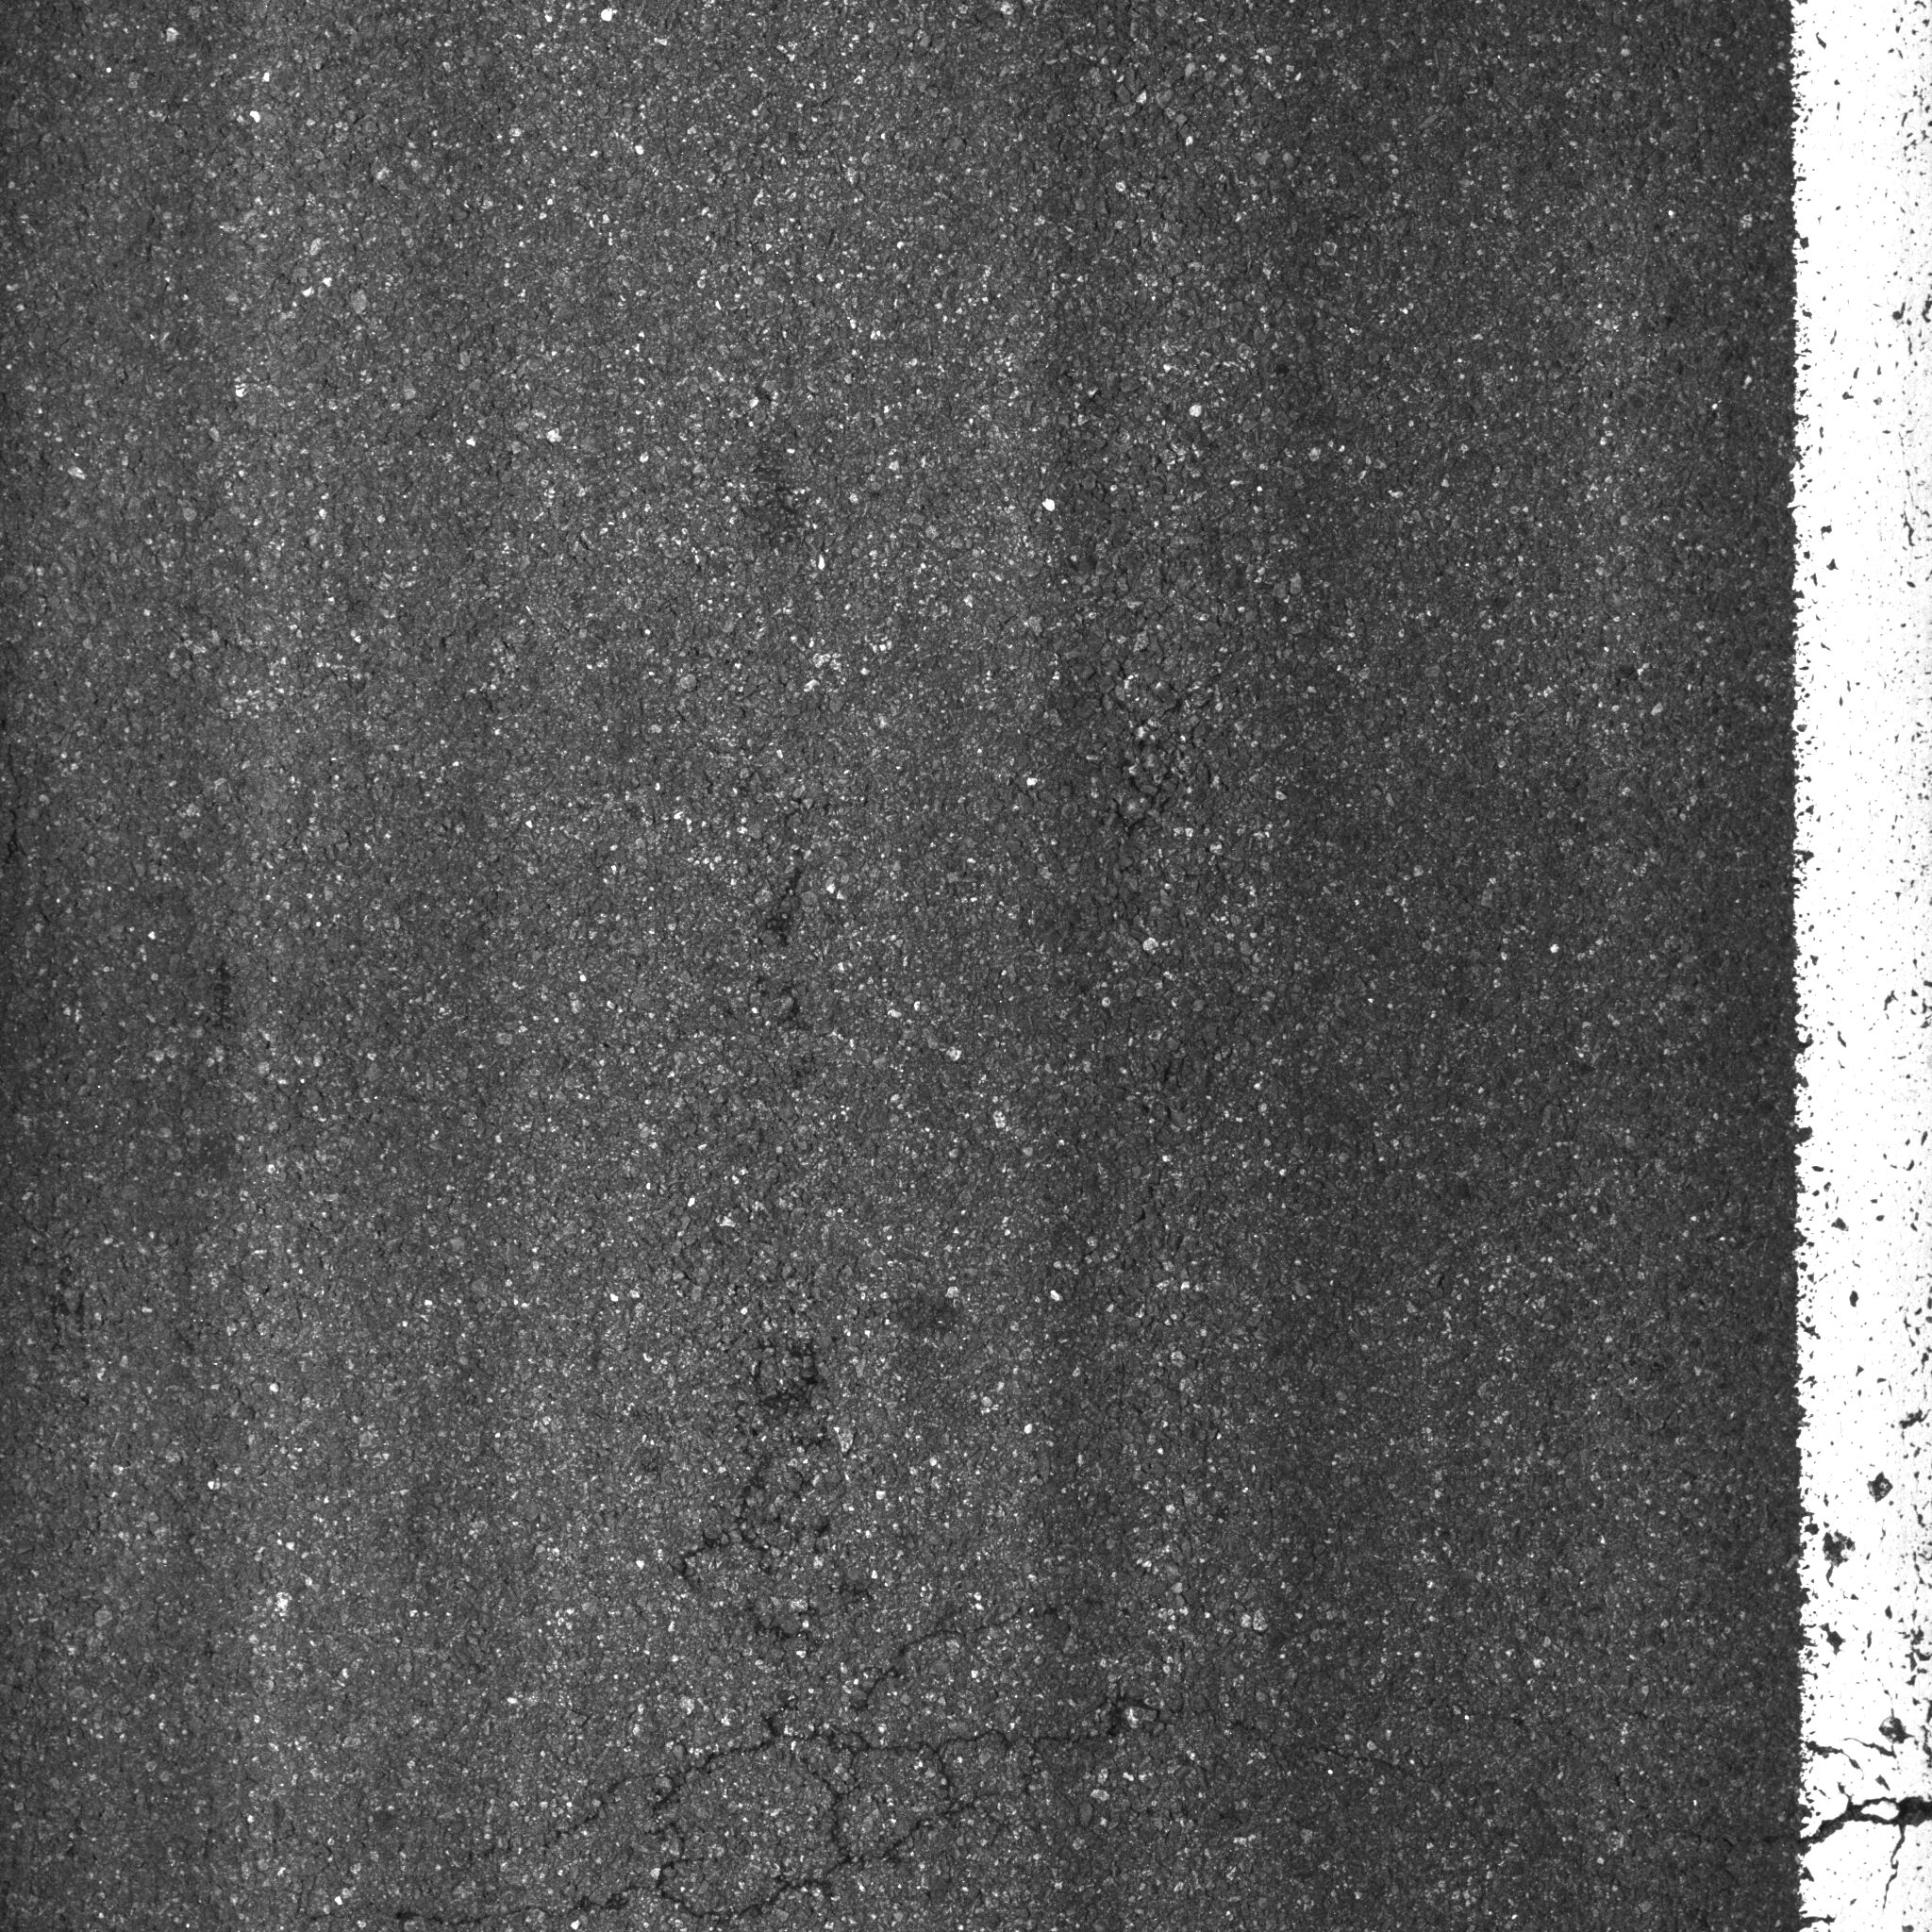alligator: (379, 1313, 1845, 1932)
